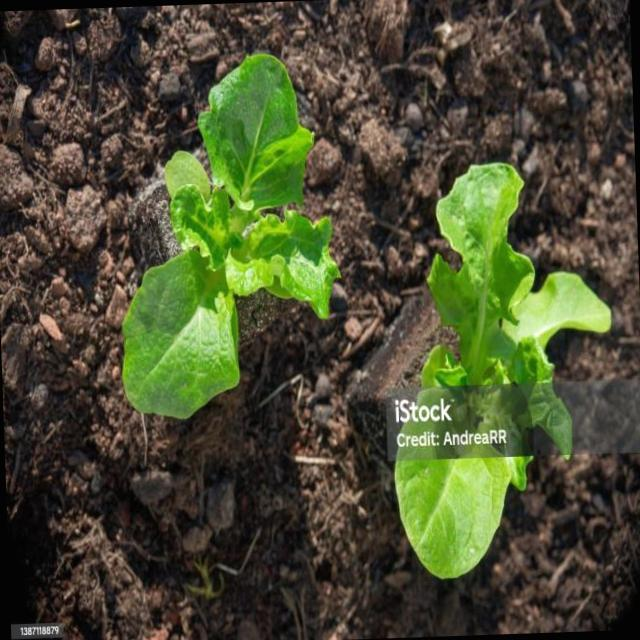Lettuce-Not-Ready-to-Harvest: (391, 162, 613, 582), (121, 52, 342, 422)
